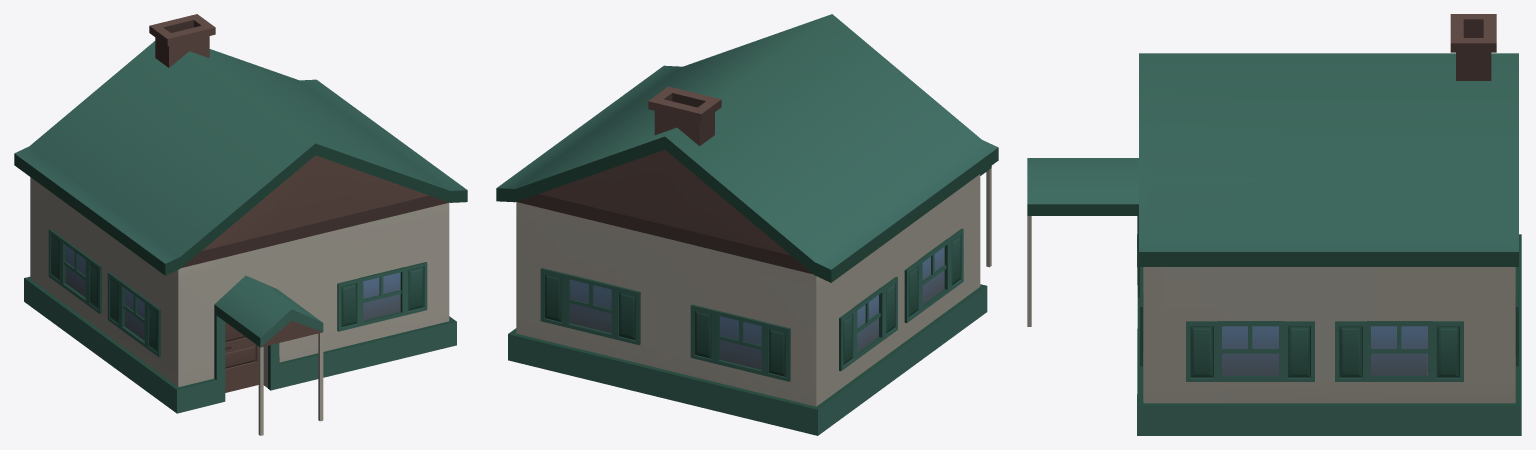
File: buildings-residential-greenhouse_v1.glb
3 views of the same model, side by side, from view 1: azimuth 30°, elevation 25°; view 2: azimuth 150°, elevation 25°; view 3: azimuth 270°, elevation 25° (orthographic). The views are drawn at different scales.
Visible parts, largest first — view 1: GreenHouse_base, GreenHouse_windowRefl; view 2: GreenHouse_base, GreenHouse_windowRefl; view 3: GreenHouse_base, GreenHouse_windowRefl.
Boxes of the visible parts, box(x1,y1,x2,y2) form: GreenHouse_base: box(14, 14, 467, 435); GreenHouse_windowRefl: box(65, 245, 400, 340); GreenHouse_base: box(496, 14, 998, 435); GreenHouse_windowRefl: box(570, 247, 944, 369); GreenHouse_base: box(1027, 14, 1521, 435); GreenHouse_windowRefl: box(1222, 326, 1427, 376).
Size of the model in its own units: 9.71 by 7.84 by 10.94.
